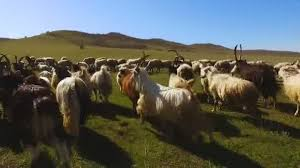sheep: (130, 60, 193, 128), (56, 68, 92, 135), (199, 65, 254, 108), (9, 80, 52, 135), (276, 60, 300, 116), (115, 60, 137, 110), (92, 64, 112, 100), (144, 58, 161, 73), (81, 56, 95, 66)
